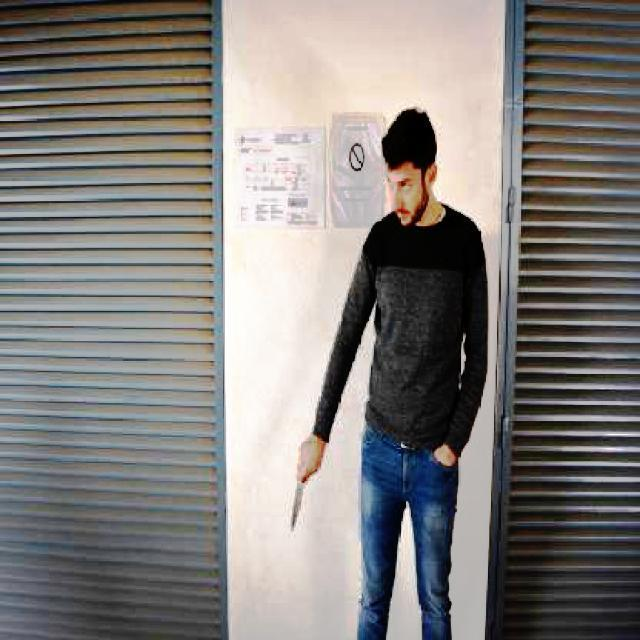Knife: (284, 472, 313, 542)
